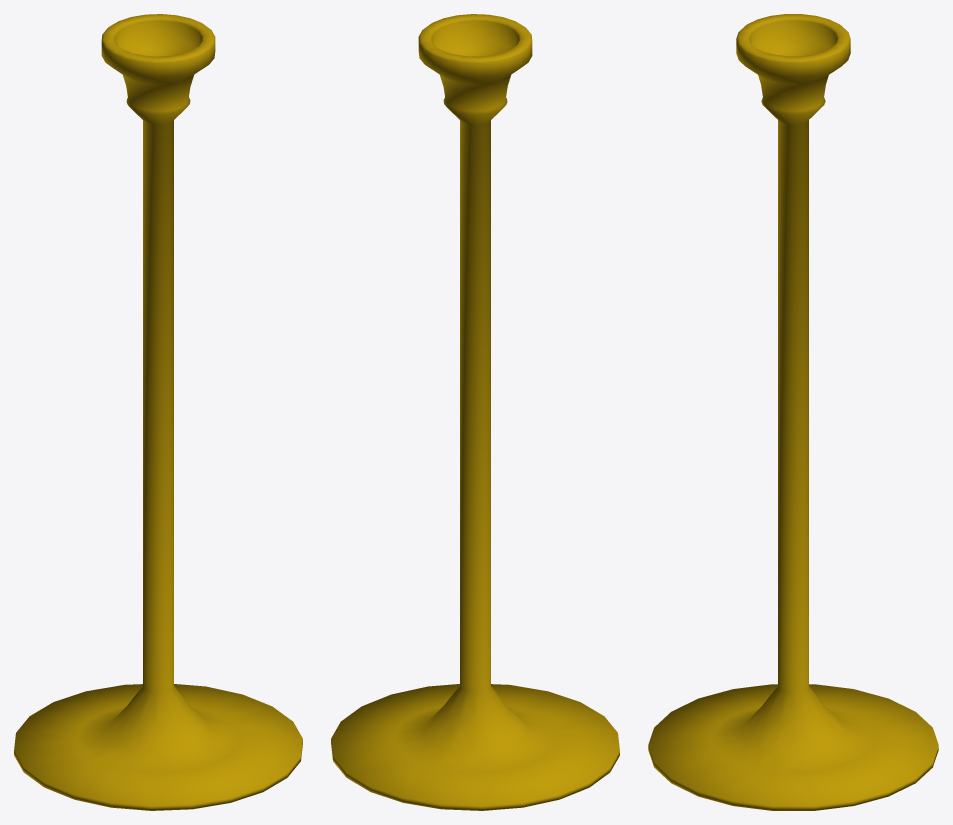
The picture shows the model from 3 angles, left to right: view 1: azimuth 30°, elevation 25°; view 2: azimuth 150°, elevation 25°; view 3: azimuth 270°, elevation 25°; orthographic projection.
Parts seen in each view (by area): view 1: Candle_Stick_Q.003; view 2: Candle_Stick_Q.003; view 3: Candle_Stick_Q.003.
Boxes of the visible parts, <box> form: Candle_Stick_Q.003: <box>14,14,302,810</box>; Candle_Stick_Q.003: <box>331,14,619,810</box>; Candle_Stick_Q.003: <box>648,14,938,810</box>.
Size of the model in its own units: 0.0833 by 0.228 by 0.0842.
